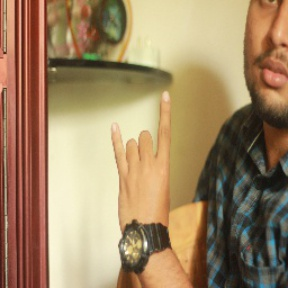V: (106, 90, 183, 235)
